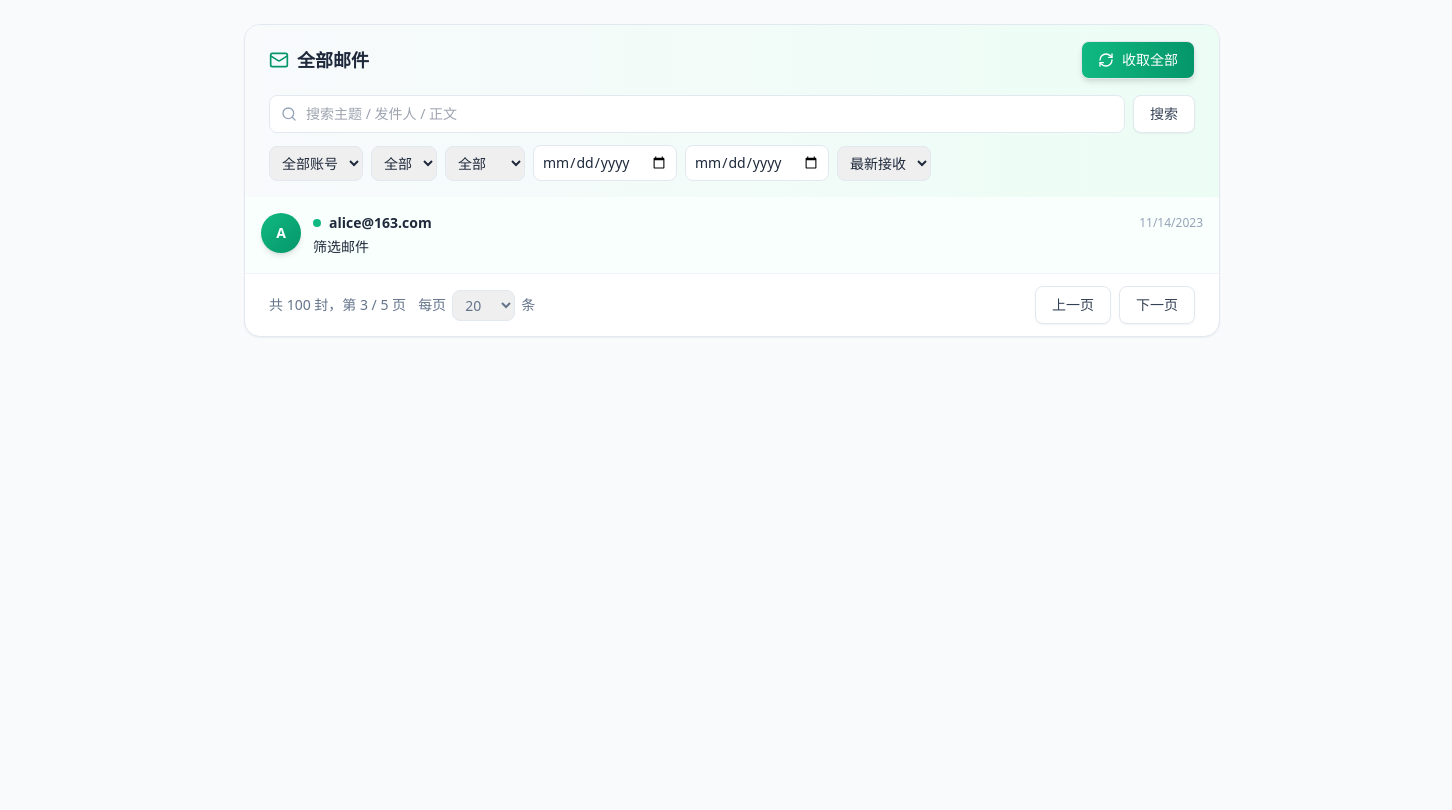
Test: AggregateMailPage › 在非第 1 页改筛选时把 page 重置为 1 并写入 URL
This screenshot has width=1452, height=810.
Select "已读" in the dropdown named "已读状态". click: (404, 163)
box: top-left (371, 146), bottom-right (437, 180)
(page scrolled)
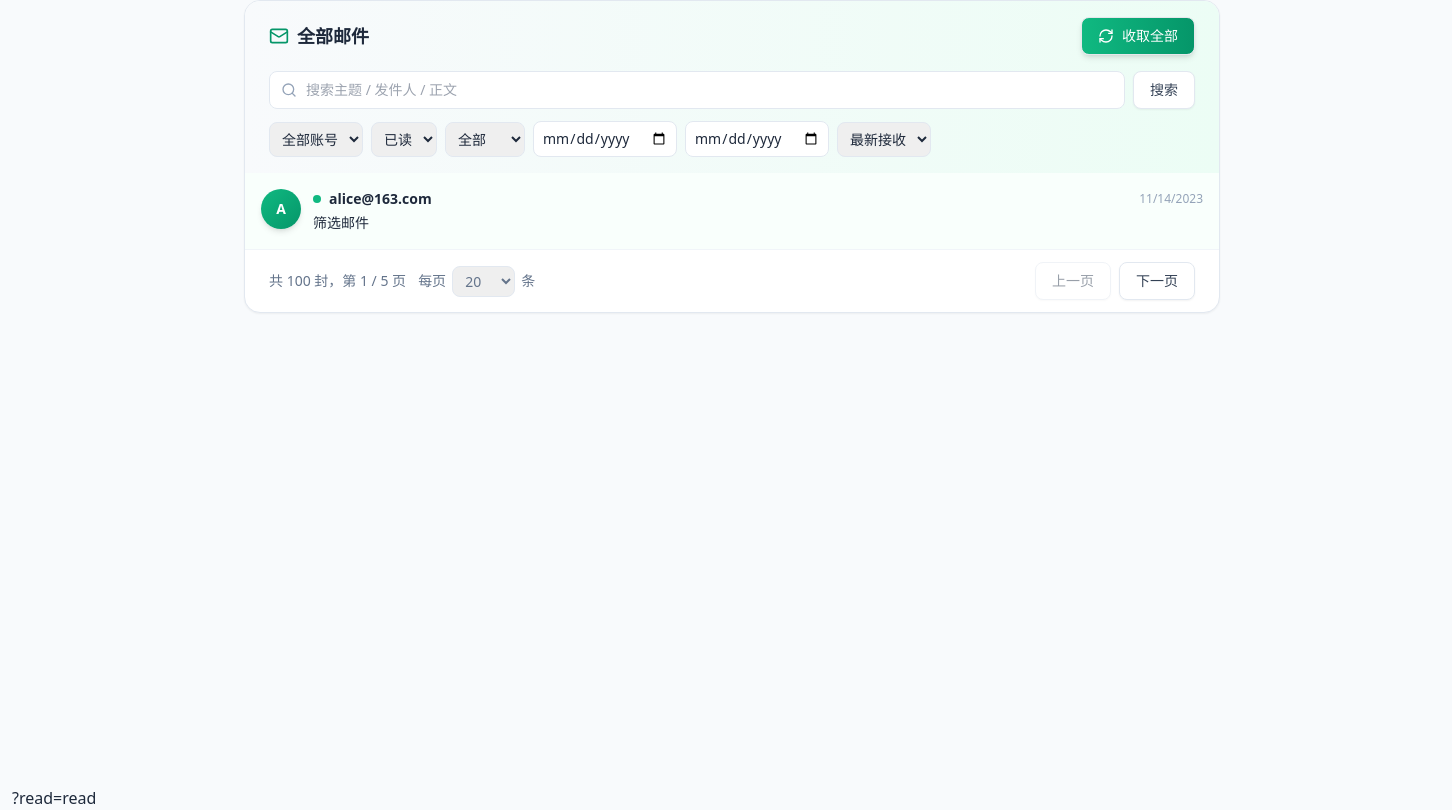
Now the text with test id "search" shows "read=read", box top-left (12, 787), bottom-right (96, 809)
